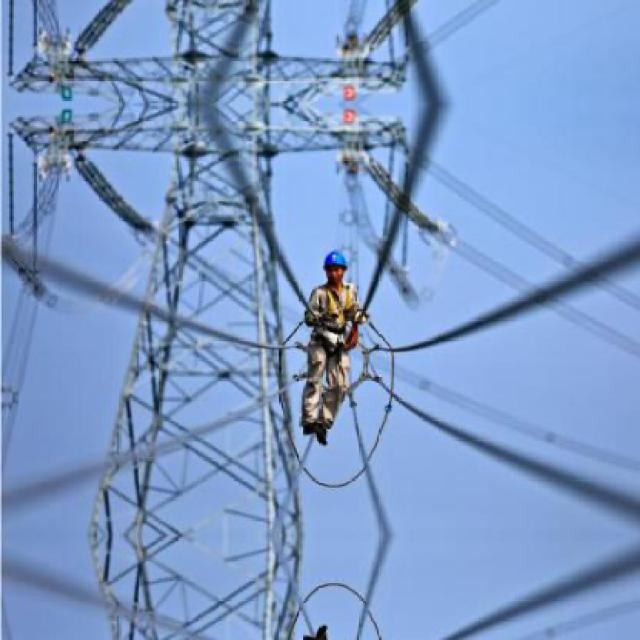con casco: (315, 212, 380, 266)
